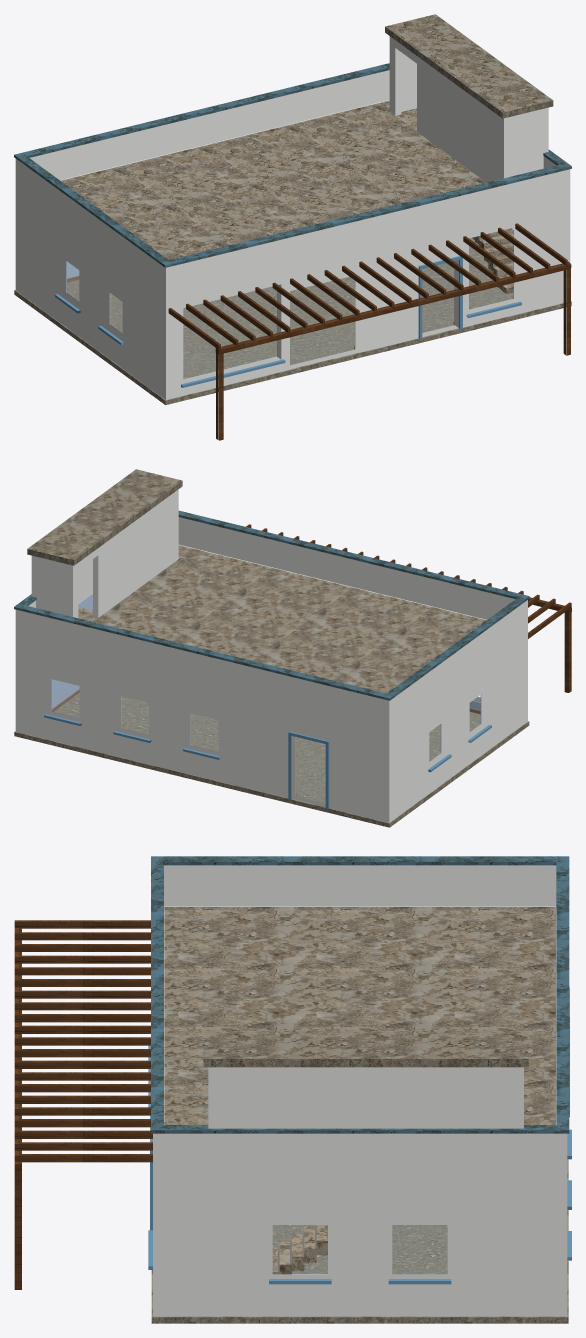
The model's file is bay-beach-club.reveal-v1.lod0.glb.
3 views of the same model, one above another, from view 1: azimuth 30°, elevation 25°; view 2: azimuth 150°, elevation 25°; view 3: azimuth 270°, elevation 25° (orthographic). The views are drawn at different scales.
Parts seen in each view (by area): view 1: bay-beach-club; view 2: bay-beach-club; view 3: bay-beach-club.
Part boxes in pixels (x1,y1,x2,y2): bay-beach-club: [14, 14, 571, 440]; bay-beach-club: [14, 469, 571, 827]; bay-beach-club: [14, 856, 571, 1323].
Size of the model in its own units: 14.2 by 6.37 by 12.12.
Materials: 4 (3 with a texture image).
